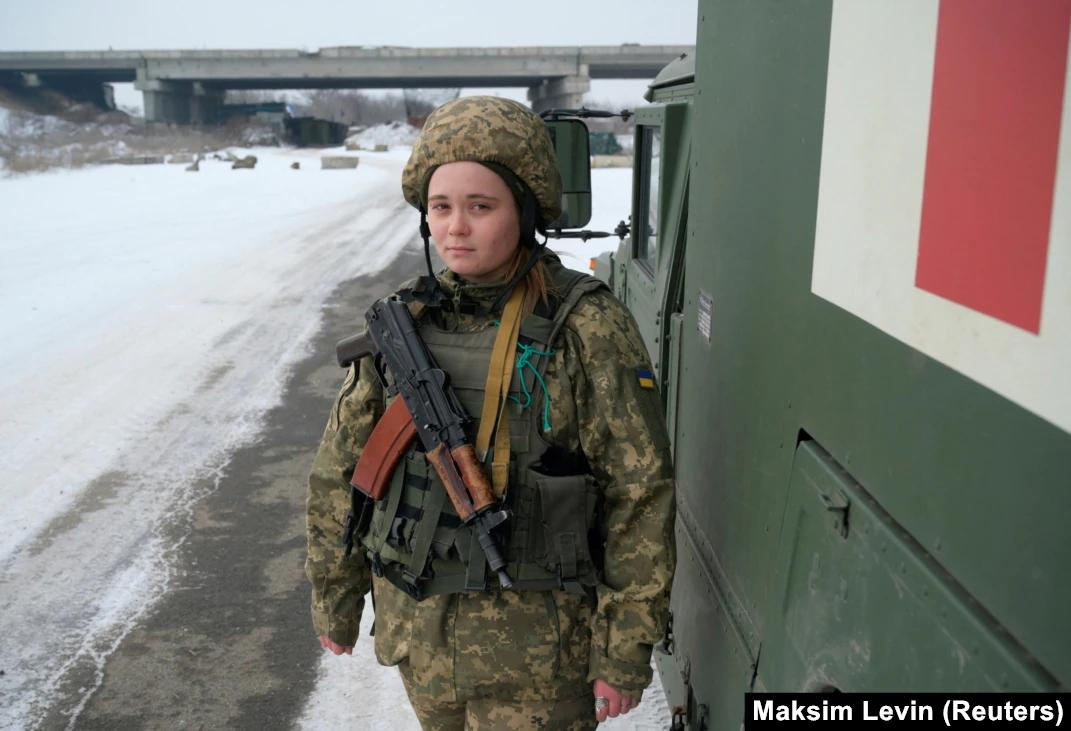larga: (335, 299, 517, 594)
